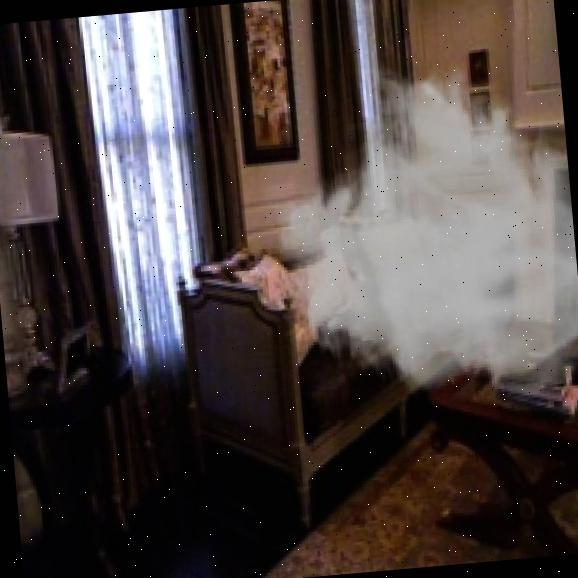smoke: (258, 43, 578, 425)
